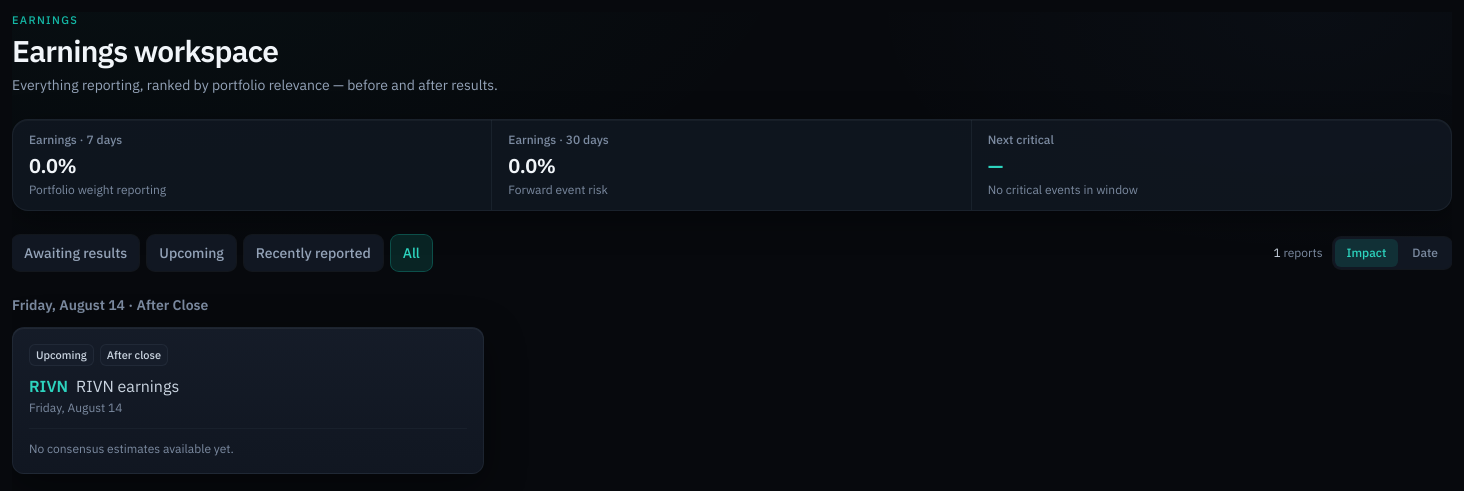
Test: EarningsPage › shows an honest empty state when a filter matches nothing
This screenshot has width=1464, height=491.
Click the button "Awaiting results". click: (76, 252)
box: x1=12 y1=234 x2=139 y2=270
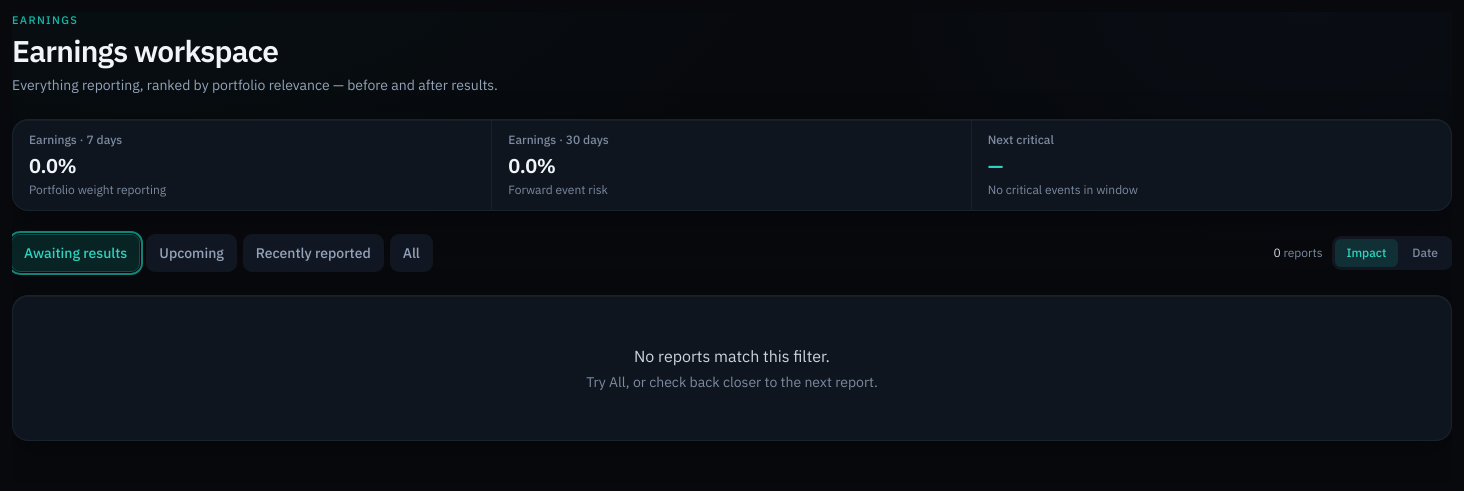
expect the text "No reports match this filter." is shown: met, box x1=634 y1=346 x2=830 y2=366
